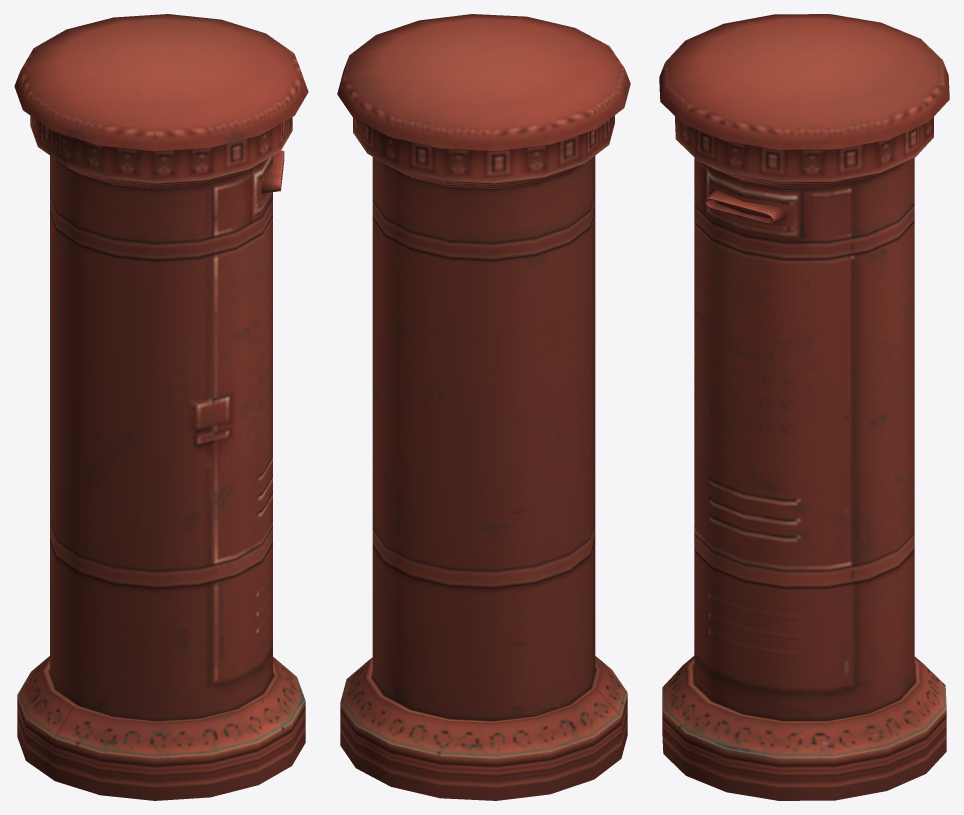
Rendered from SiWangPenQuan_01_youtong_01_UV2.FBX.
The picture shows the model from 3 angles, left to right: view 1: azimuth 30°, elevation 25°; view 2: azimuth 150°, elevation 25°; view 3: azimuth 270°, elevation 25°; orthographic projection.
Visible parts, largest first — view 1: SiWangPenQuan_01_youtong_01_UV2; view 2: SiWangPenQuan_01_youtong_01_UV2; view 3: SiWangPenQuan_01_youtong_01_UV2.
Boxes of the visible parts, bbox=[...] form: SiWangPenQuan_01_youtong_01_UV2: bbox=[14, 14, 308, 800]; SiWangPenQuan_01_youtong_01_UV2: bbox=[337, 14, 630, 800]; SiWangPenQuan_01_youtong_01_UV2: bbox=[659, 14, 949, 800].
Size of the model in its own units: 243 by 632 by 243.
